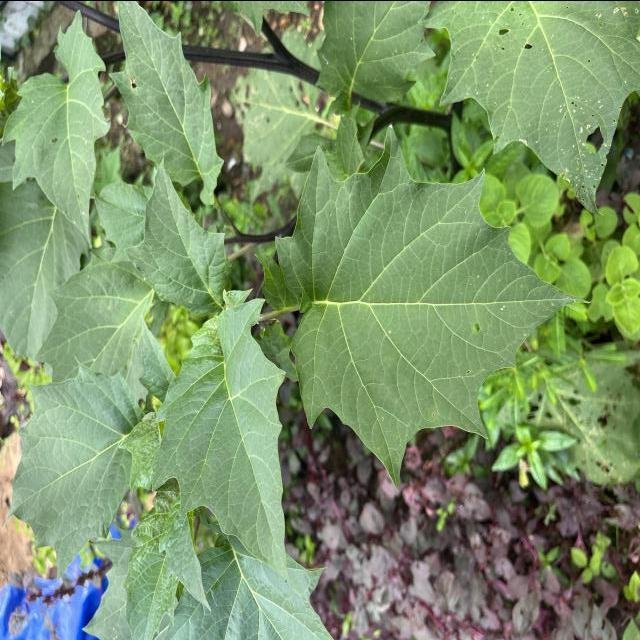Datura metal linn: (272, 119, 594, 498), (146, 293, 298, 595), (0, 350, 139, 584), (0, 3, 114, 250), (106, 0, 227, 214), (120, 146, 230, 312)
